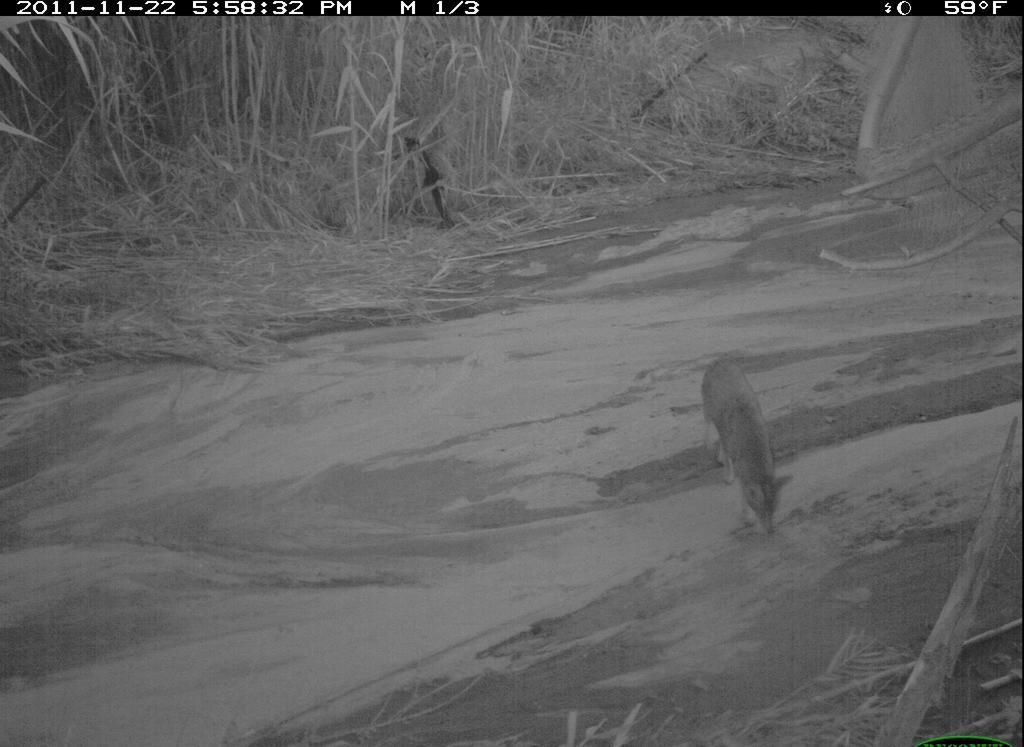coyote: (683, 338, 793, 547)
